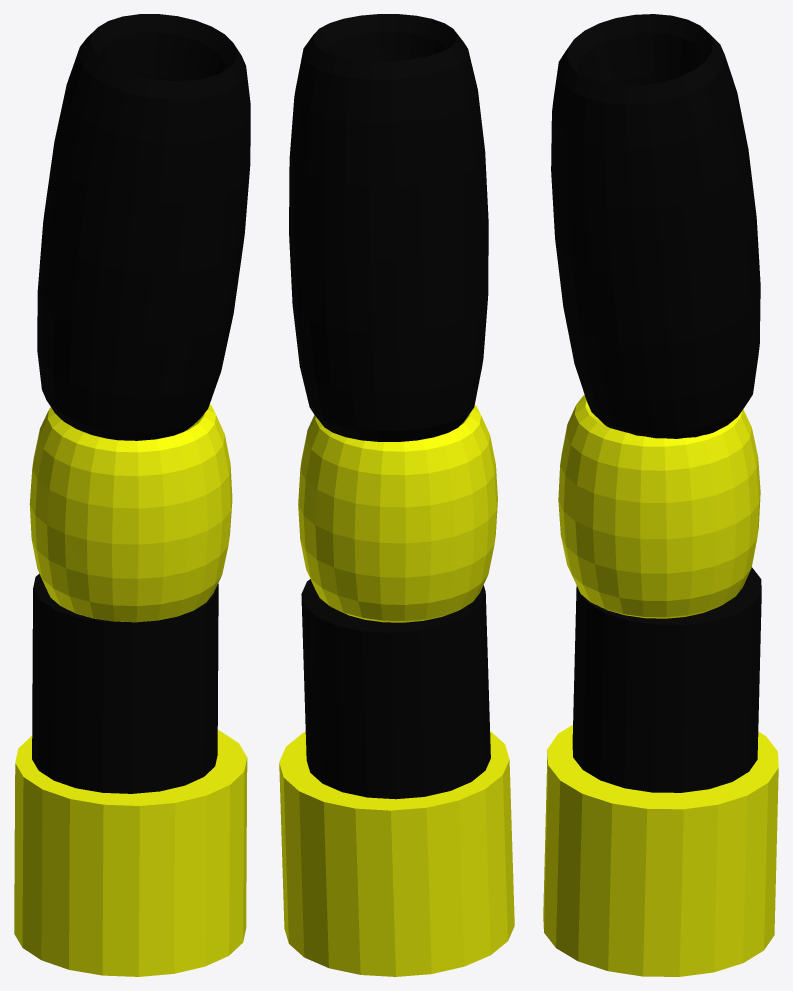
The model's file is Nozzle05.fbx.
The picture shows the model from 3 angles, left to right: view 1: azimuth 30°, elevation 25°; view 2: azimuth 150°, elevation 25°; view 3: azimuth 270°, elevation 25°; orthographic projection.
Visible parts, largest first — view 1: Nozzle05; view 2: Nozzle05; view 3: Nozzle05.
Part boxes in pixels (<box>): Nozzle05: <box>14,14,250,976</box>; Nozzle05: <box>279,14,514,976</box>; Nozzle05: <box>543,14,778,976</box>.
Bounding box in the file's own units: 50.31 × 212 × 50.42.
